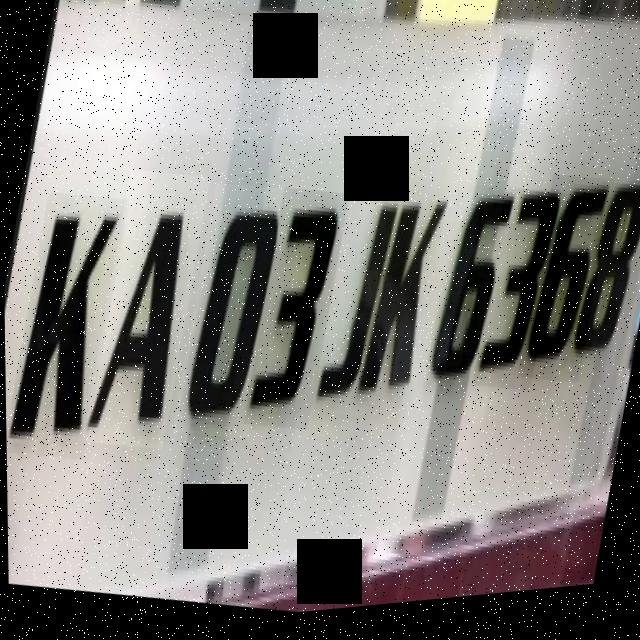0: (171, 197, 292, 440)
3: (242, 201, 348, 428), (471, 201, 564, 395)
6: (423, 199, 520, 396), (517, 193, 612, 392), (564, 193, 640, 385)
A: (82, 180, 196, 443)
J: (305, 199, 404, 421)
K: (5, 203, 127, 452), (353, 191, 454, 412)
